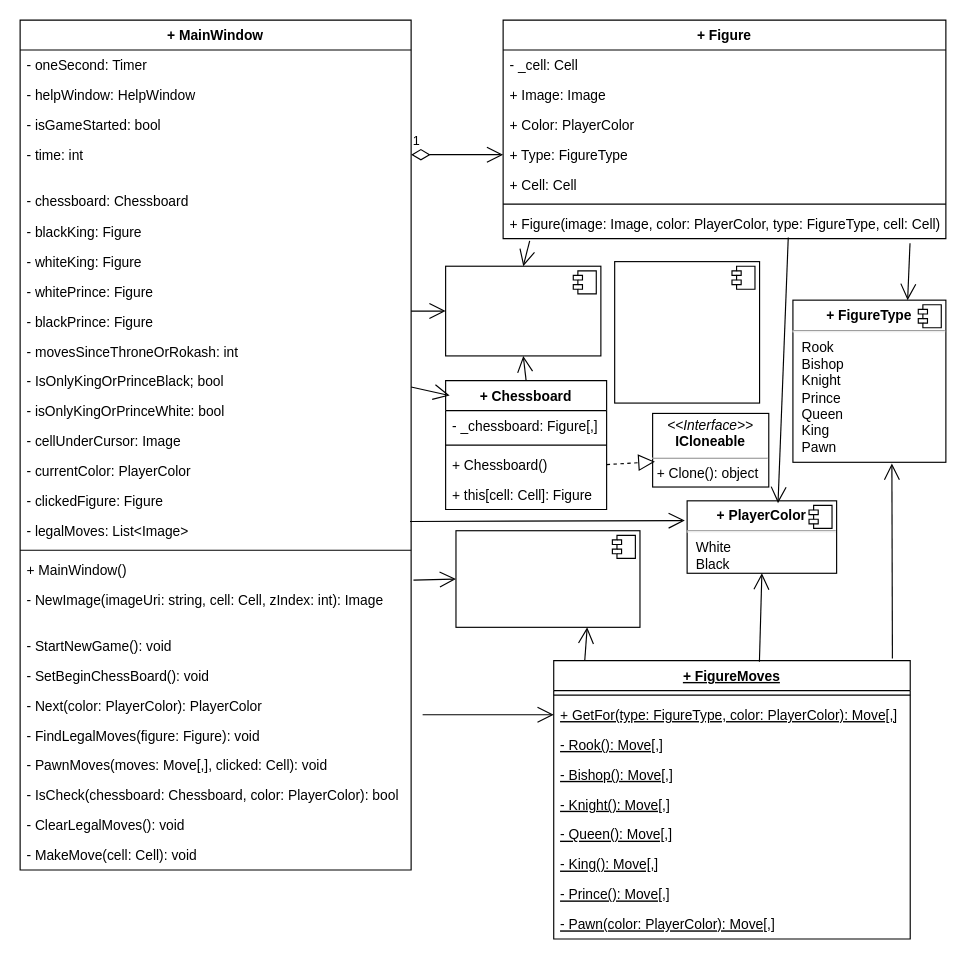
Some shapes in this 966 by 963 pixel diagram are drawn without their labels. The shapes that lost their labels are listed below. From the top down, each one's box as (x1, y1, x2, y2) in pixels, then its label:
(444, 265, 601, 356): + Cell + Row: int + Col: int + Cell(row: int, col: int)
(614, 260, 760, 403): + MoveType Regular Check Checkmate Inauguration Throne ThroneMine
(455, 530, 640, 627): + Move + Rows: int + Cols: int + Move(rows: int, cols: int)
